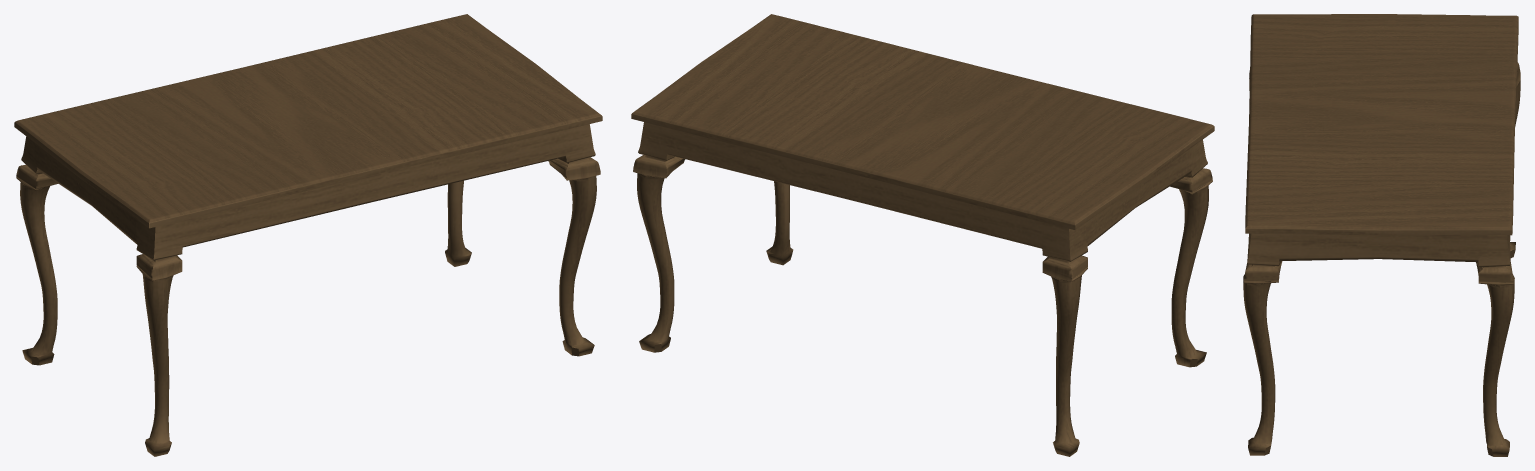
3 views of the same model, side by side, from view 1: azimuth 30°, elevation 25°; view 2: azimuth 150°, elevation 25°; view 3: azimuth 270°, elevation 25° (orthographic). The views are drawn at different scales.
Visible parts, largest first — view 1: pCube1_blinn1_0; view 2: pCube1_blinn1_0; view 3: pCube1_blinn1_0.
Boxes of the visible parts, bbox=[...] form: pCube1_blinn1_0: bbox=[14, 14, 602, 456]; pCube1_blinn1_0: bbox=[631, 14, 1214, 456]; pCube1_blinn1_0: bbox=[1243, 14, 1520, 456].
Size of the model in its own units: 9.66 by 4.87 by 5.26.
Materials: 1 (1 with a texture image).
